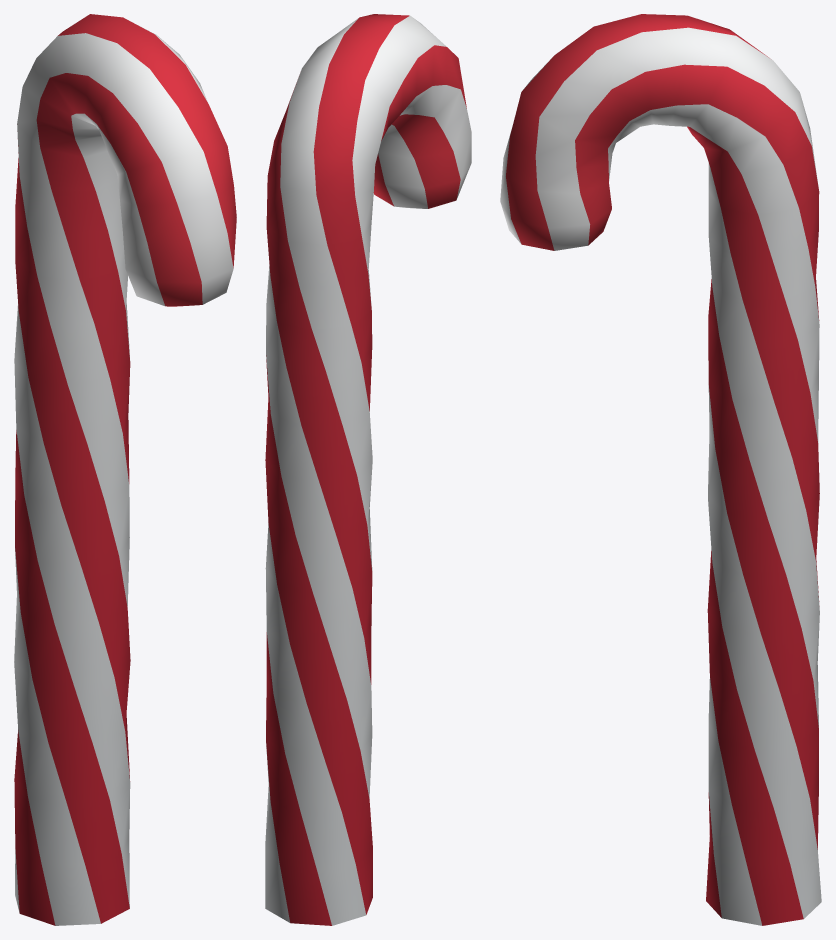
File: Shugar_cane_002.fbx
3 renders of one model, left to right at view 1: azimuth 30°, elevation 25°; view 2: azimuth 150°, elevation 25°; view 3: azimuth 270°, elevation 25°, orthographic. The views are drawn at different scales.
Parts seen in each view (by area): view 1: Shugar_cane_002; view 2: Shugar_cane_002; view 3: Shugar_cane_002.
Boxes of the visible parts, left/top/right/bottom form: Shugar_cane_002: left=14, top=14, right=236, bottom=925; Shugar_cane_002: left=265, top=14, right=471, bottom=925; Shugar_cane_002: left=500, top=14, right=821, bottom=925.
Size of the model in its own units: 0.4085 by 3.42 by 1.13.
